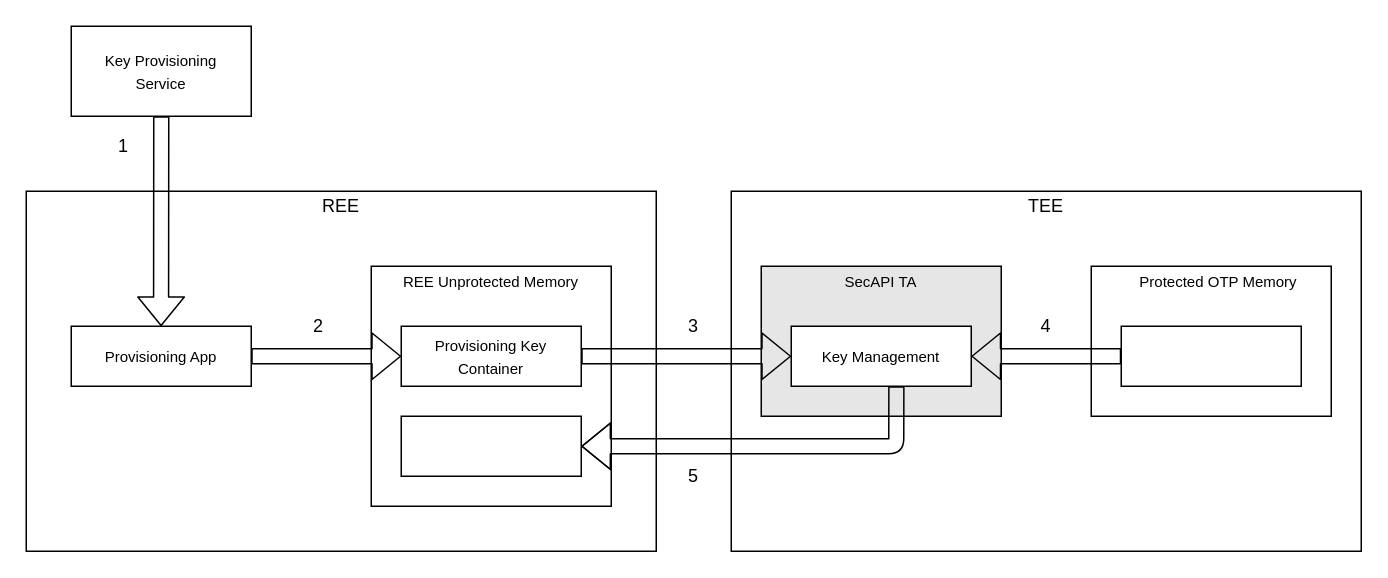
Some shapes in this 1388 by 578 pixel diagram are drawn without their labels. The shapes that lost their labels are listed below. From the top down, each one's box as (x1, y1, x2, y2) in pixels, then its label:
(1120, 325, 1301, 386): Root Key
(400, 415, 581, 476): Exported Key Container
